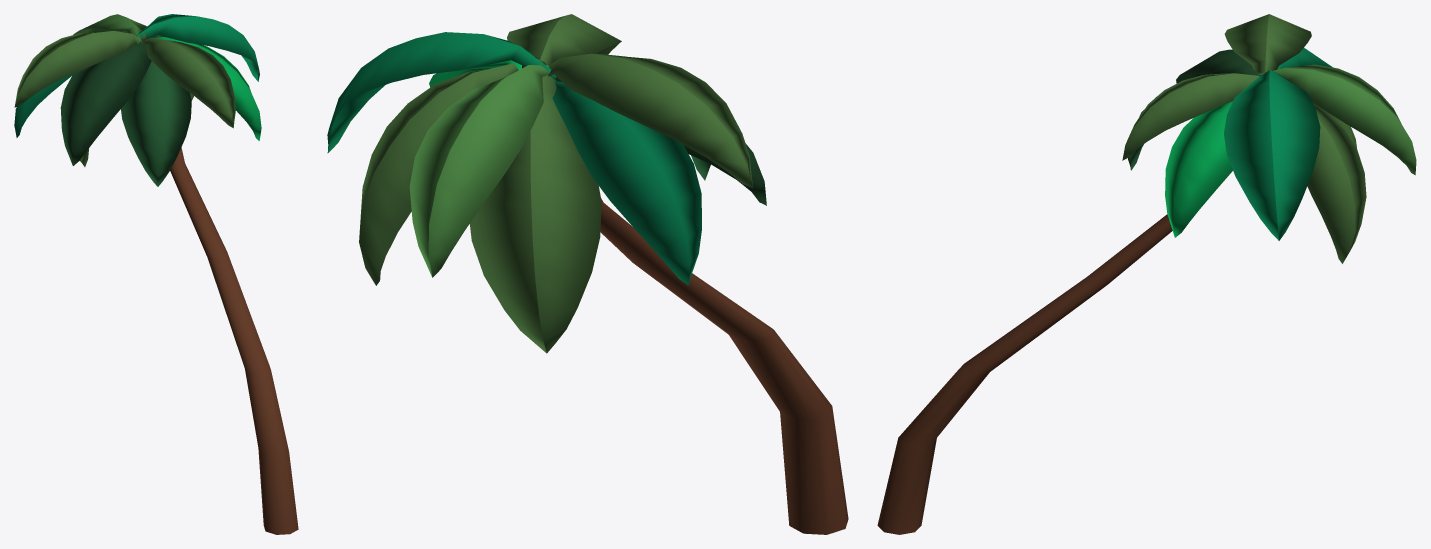
File: Palm_1.fbx
3 renders of one model, left to right at view 1: azimuth 30°, elevation 25°; view 2: azimuth 150°, elevation 25°; view 3: azimuth 270°, elevation 25°, orthographic. The views are drawn at different scales.
Parts seen in each view (by area): view 1: Palm_1; view 2: Palm_1; view 3: Palm_1.
Boxes of the visible parts, x1,y1,x2,y2 form: Palm_1: (14, 14, 298, 534); Palm_1: (327, 14, 848, 534); Palm_1: (877, 14, 1416, 534).
Size of the model in its own units: 3.39 by 5.15 by 5.26.
